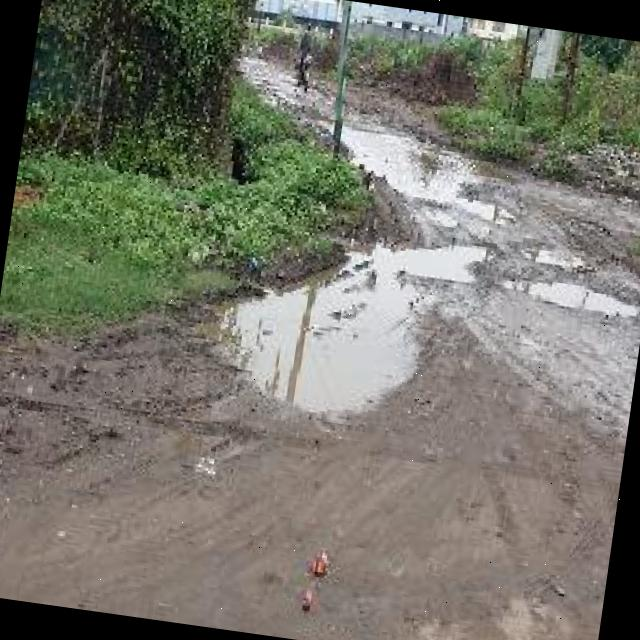stagnation: (212, 237, 497, 425), (380, 151, 537, 231), (510, 267, 640, 332)
